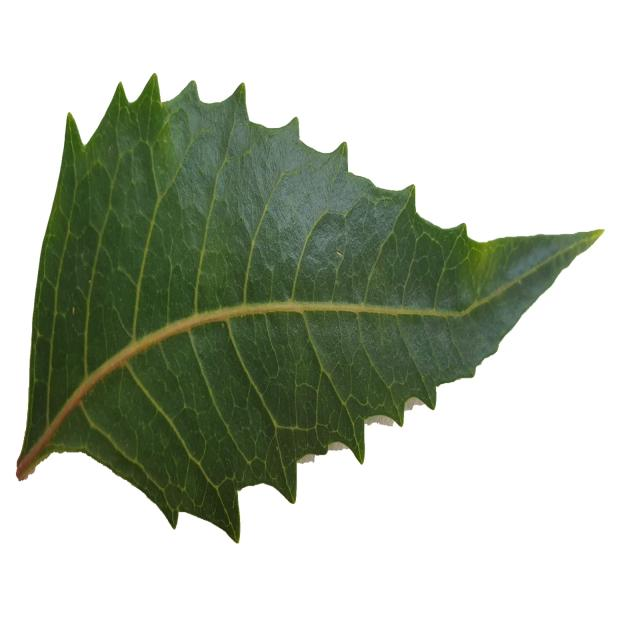Medicinal-Neem: (14, 68, 605, 540)
